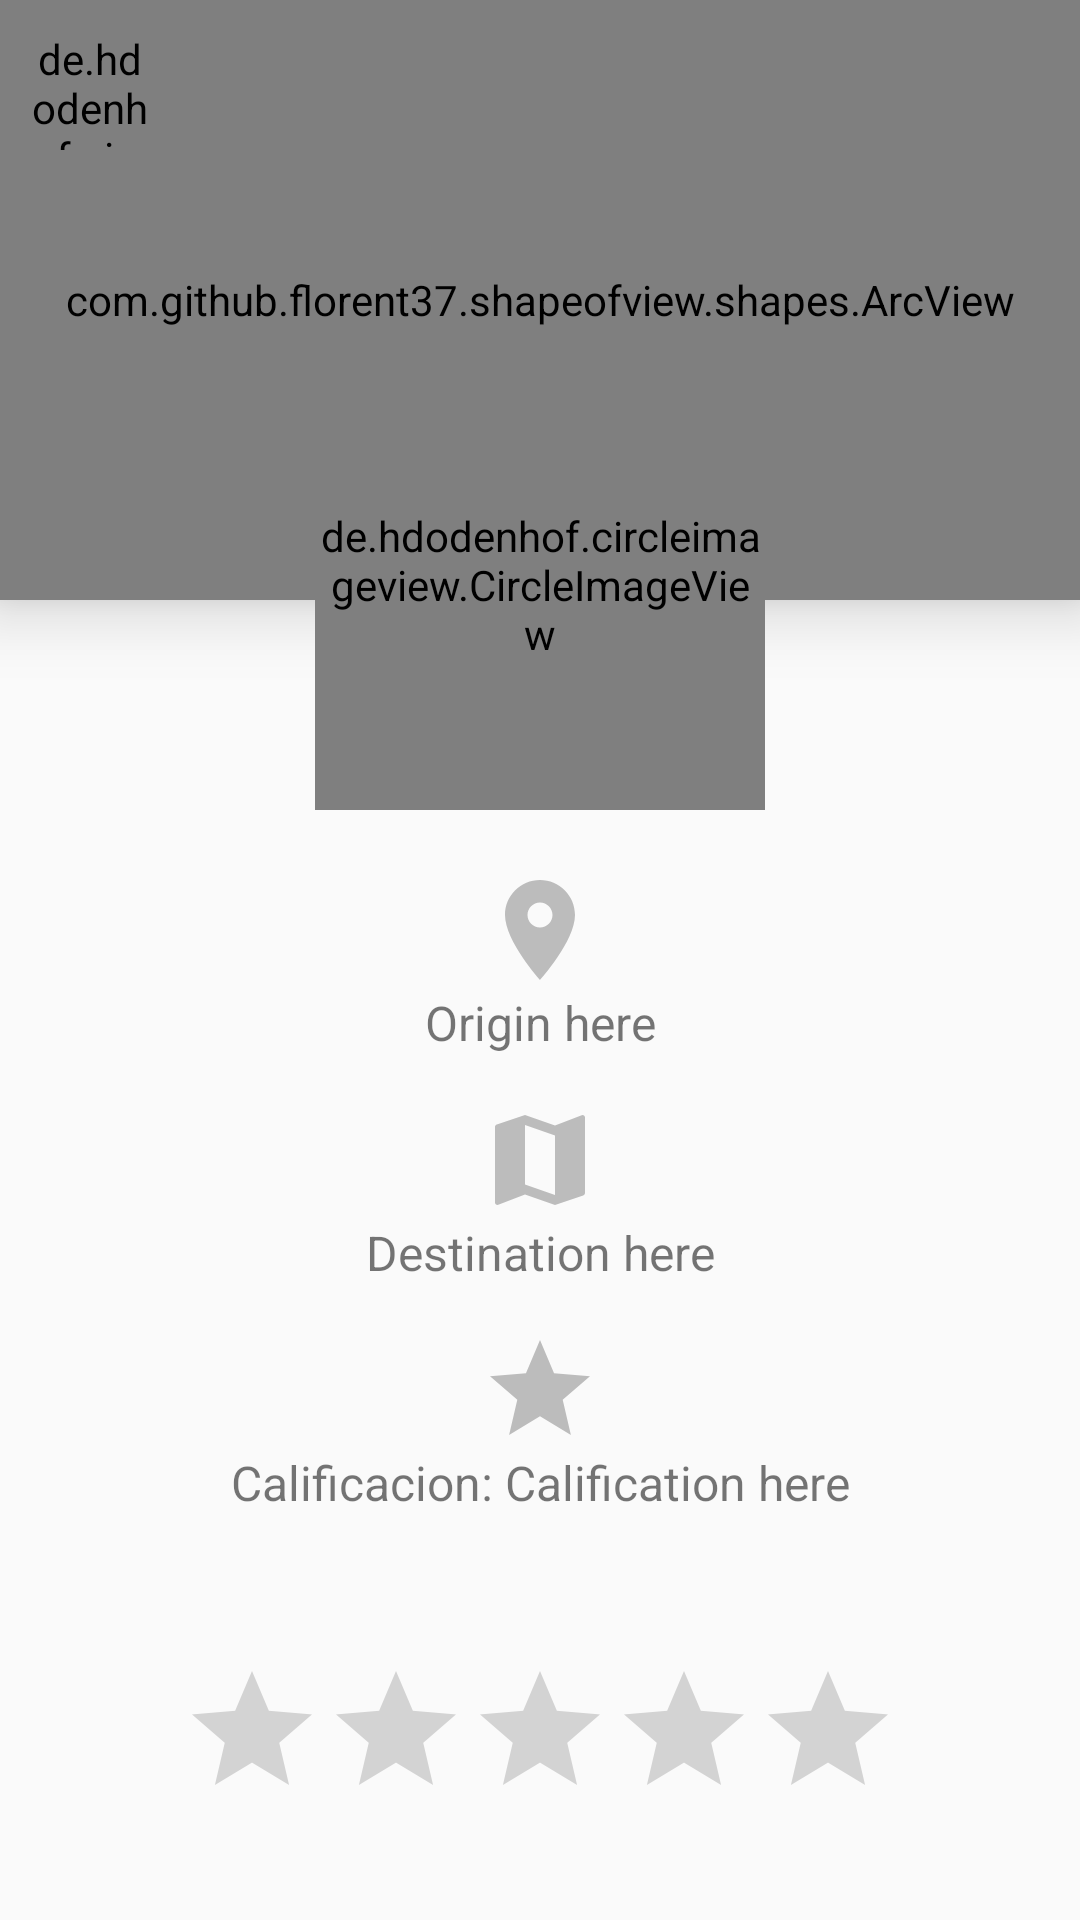

Where icons sit on this 1080 × 1920 app screen, as (x1, y1, x2, y2):
location on: (505, 880, 575, 980)
map: (495, 1115, 585, 1205)
star: (490, 1341, 590, 1435)
